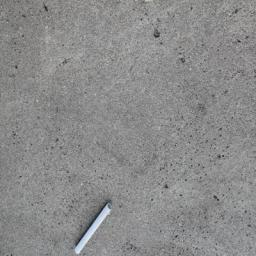FOD: (73, 197, 115, 255)
